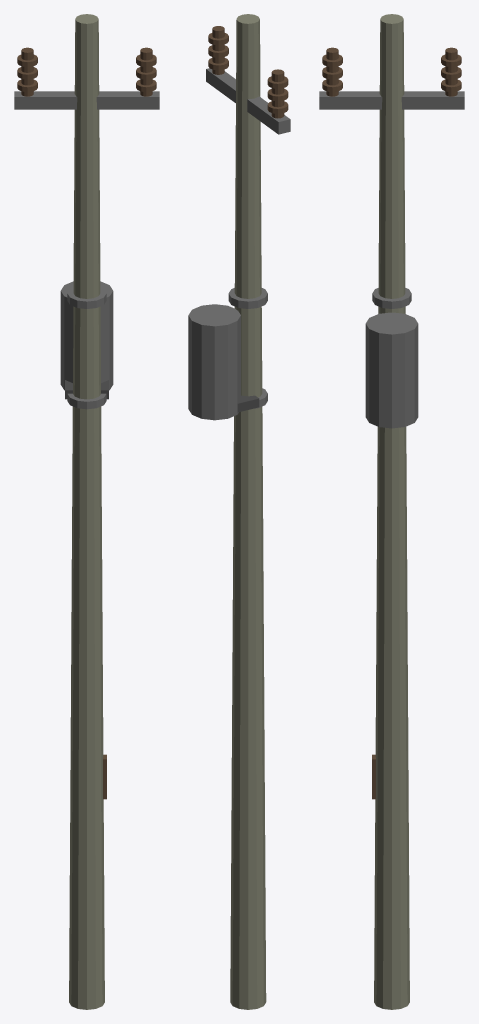
Rendered from utility_pole.fbx.
3 views of the same model, side by side, from view 1: azimuth 90°, elevation 25°; view 2: azimuth 210°, elevation 25°; view 3: azimuth 270°, elevation 25° (orthographic).
Visible parts, largest first — view 1: utility_pole.003; view 2: utility_pole.003; view 3: utility_pole.003.
Boxes of the visible parts, box(x1,y1,x2,y2) form: utility_pole.003: box(14, 14, 159, 1009); utility_pole.003: box(188, 14, 290, 1009); utility_pole.003: box(319, 14, 464, 1009).
Size of the model in its own units: 0.612 by 7.85 by 1.05.
